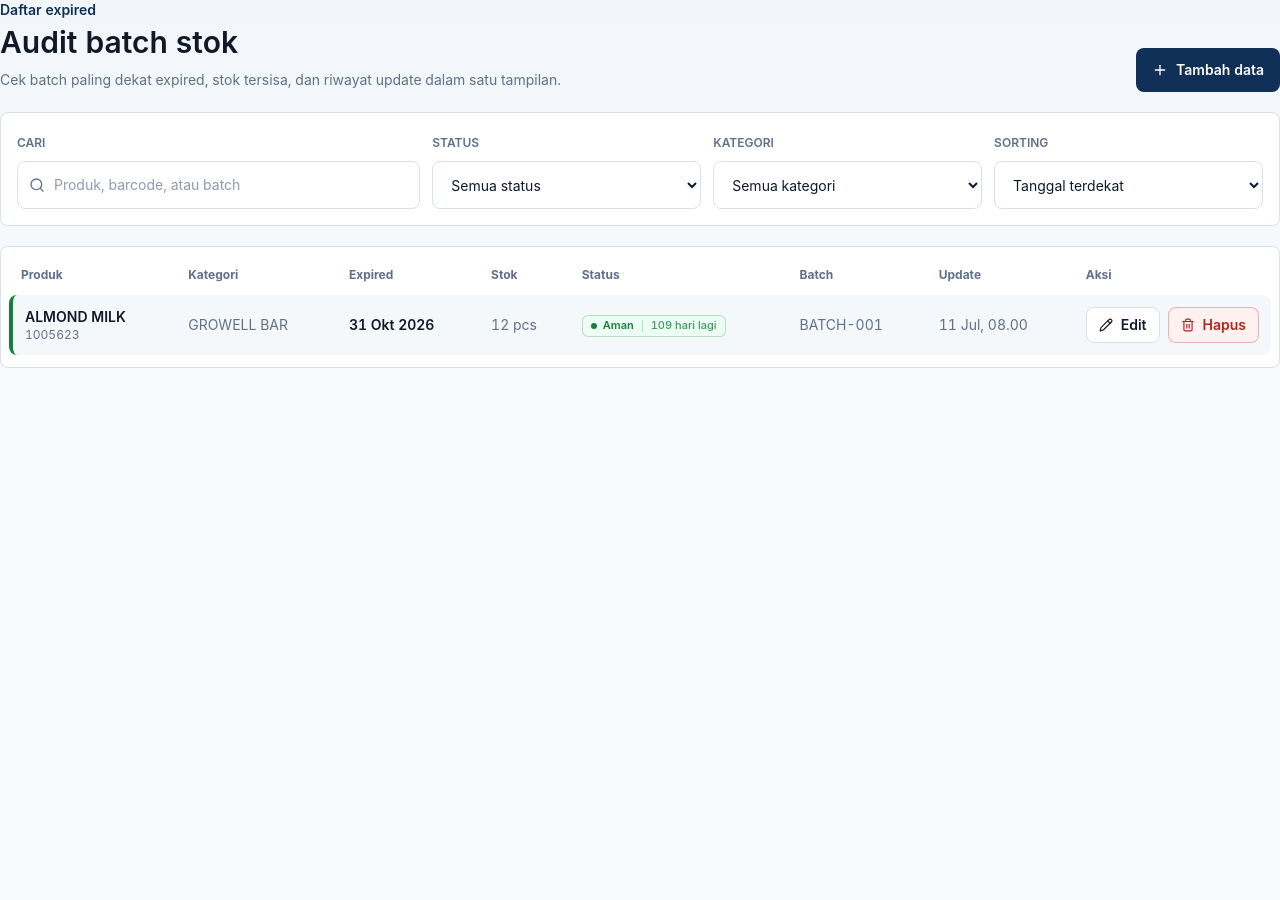
it: ExpiryList › menampilkan error di modal jika hapus gagal
Click the button "Hapus".
click(1213, 325)  # box [1168, 307, 1259, 343]
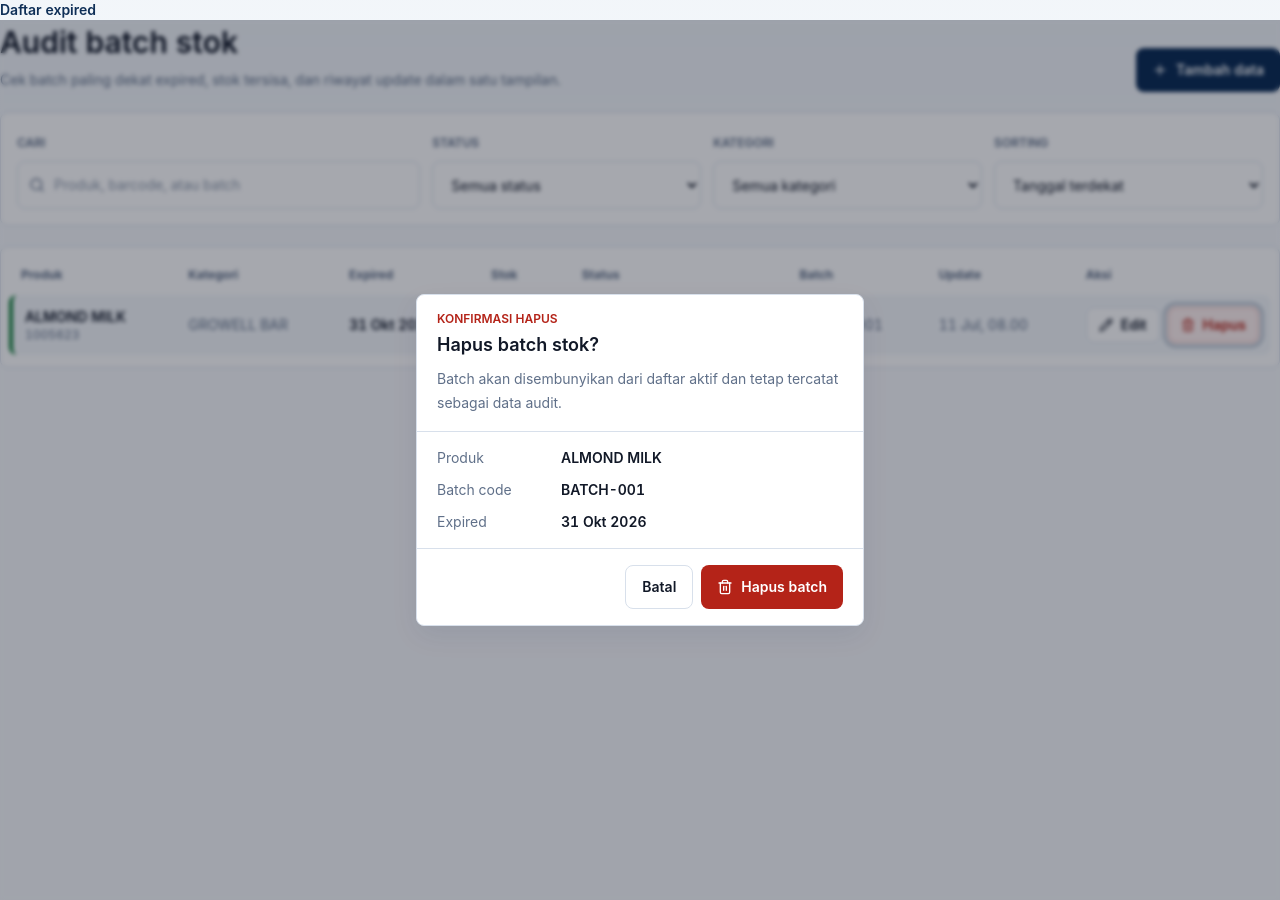
Click the button "Hapus batch".
click(772, 587)  # box [701, 565, 843, 609]
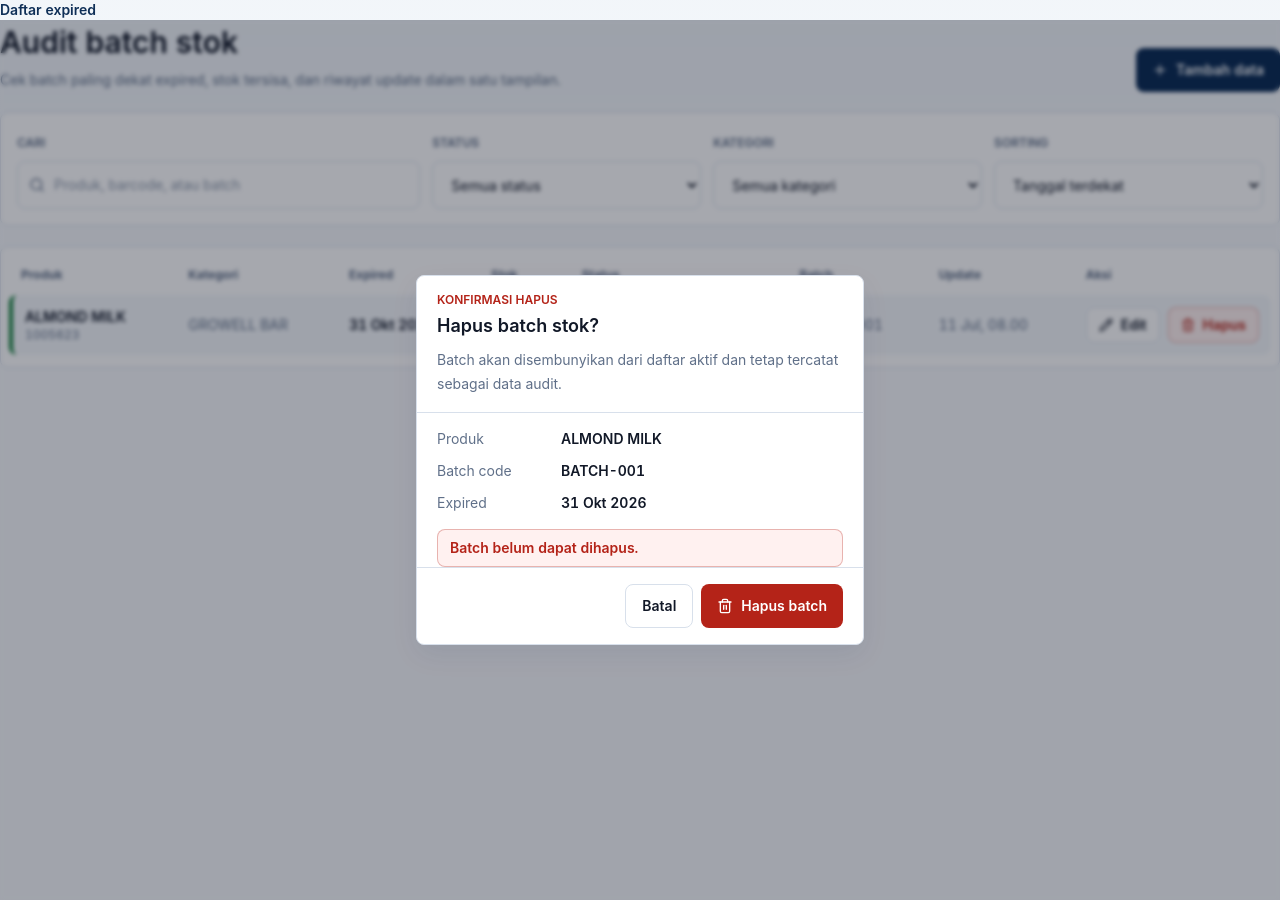
Expected: the text "ALMOND MILK" next to "GROWELL BAR" is shown, [25, 308, 126, 325]
Expected: the text "Batch belum dapat dihapus." is shown, [437, 529, 843, 567]
